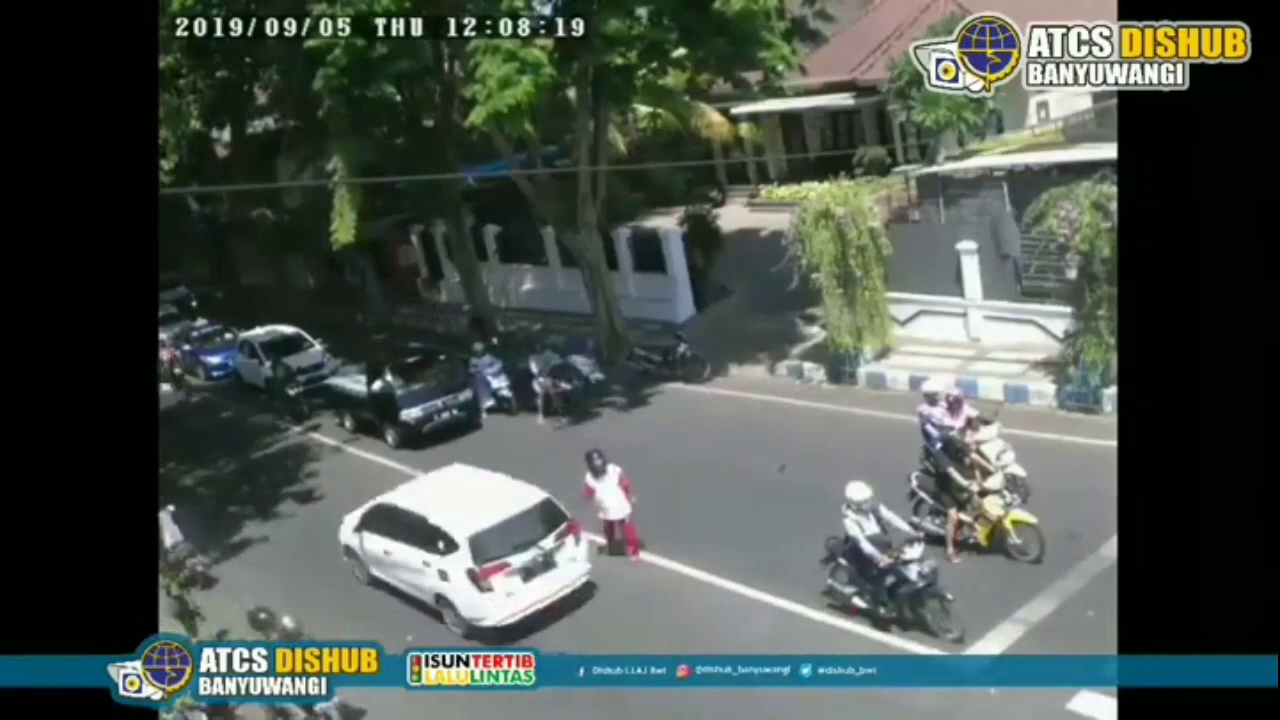car: (341, 461, 590, 637), (326, 337, 475, 454), (241, 324, 340, 390), (175, 320, 245, 385)
motorbike: (823, 480, 966, 645), (912, 376, 1032, 506), (913, 450, 1048, 565), (517, 338, 571, 422), (473, 338, 517, 418), (265, 356, 312, 419)
